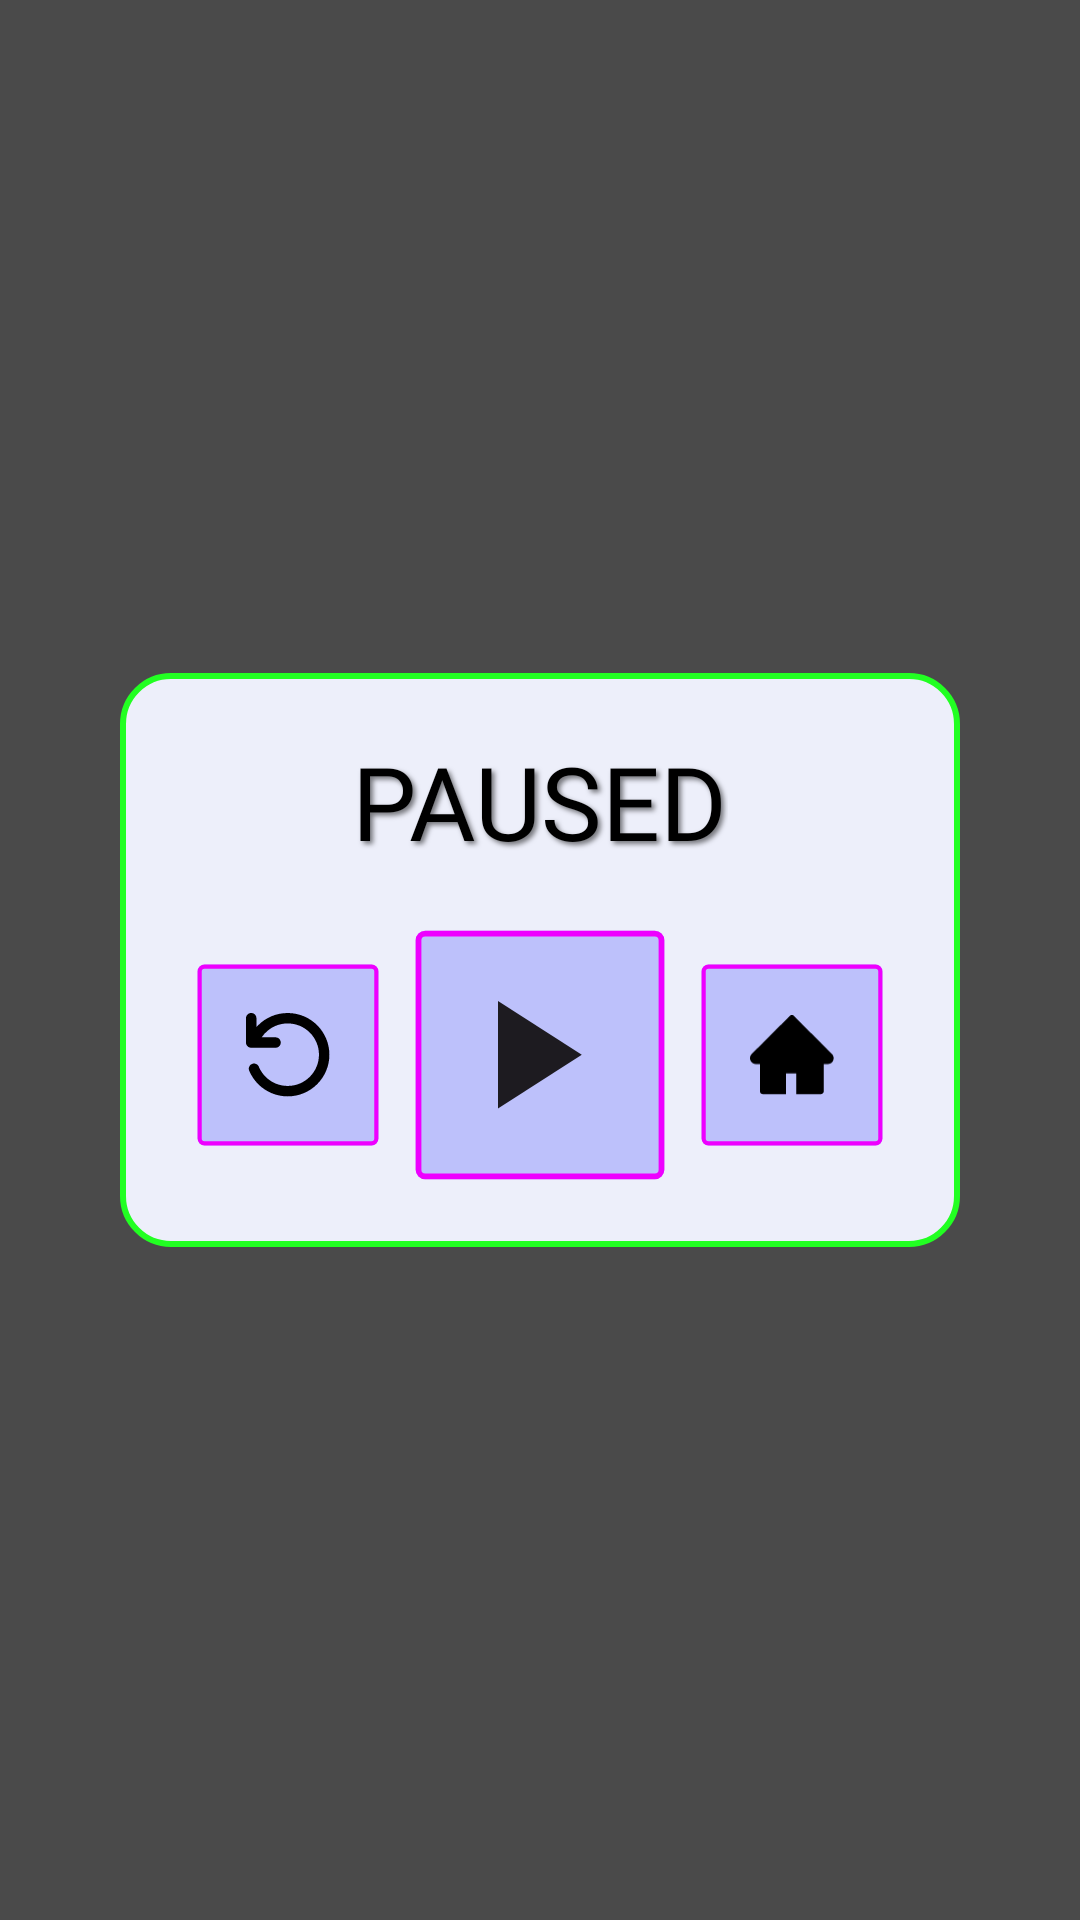

Icons on this 1080px x 1920px Android screen, each with its box as (x1, y1, x2, y2):
Home: (701, 964, 883, 1146)
Resume: (415, 930, 665, 1180)
Retry: (197, 964, 379, 1146)
